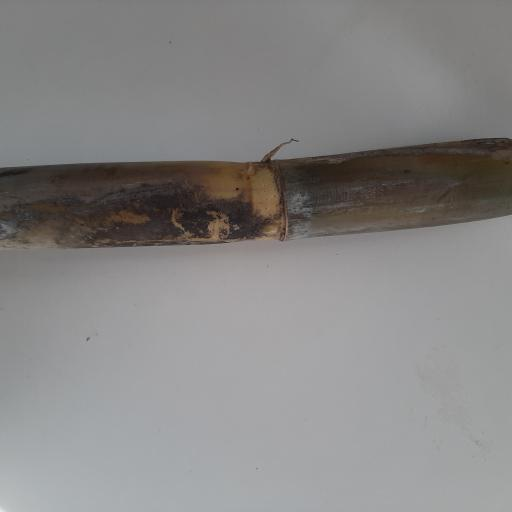Bud: (253, 220, 283, 239)
